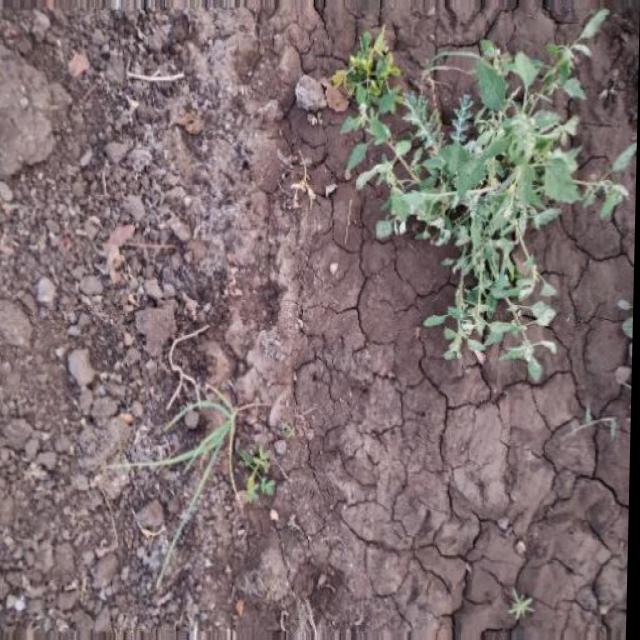crop: (347, 30, 623, 386)
